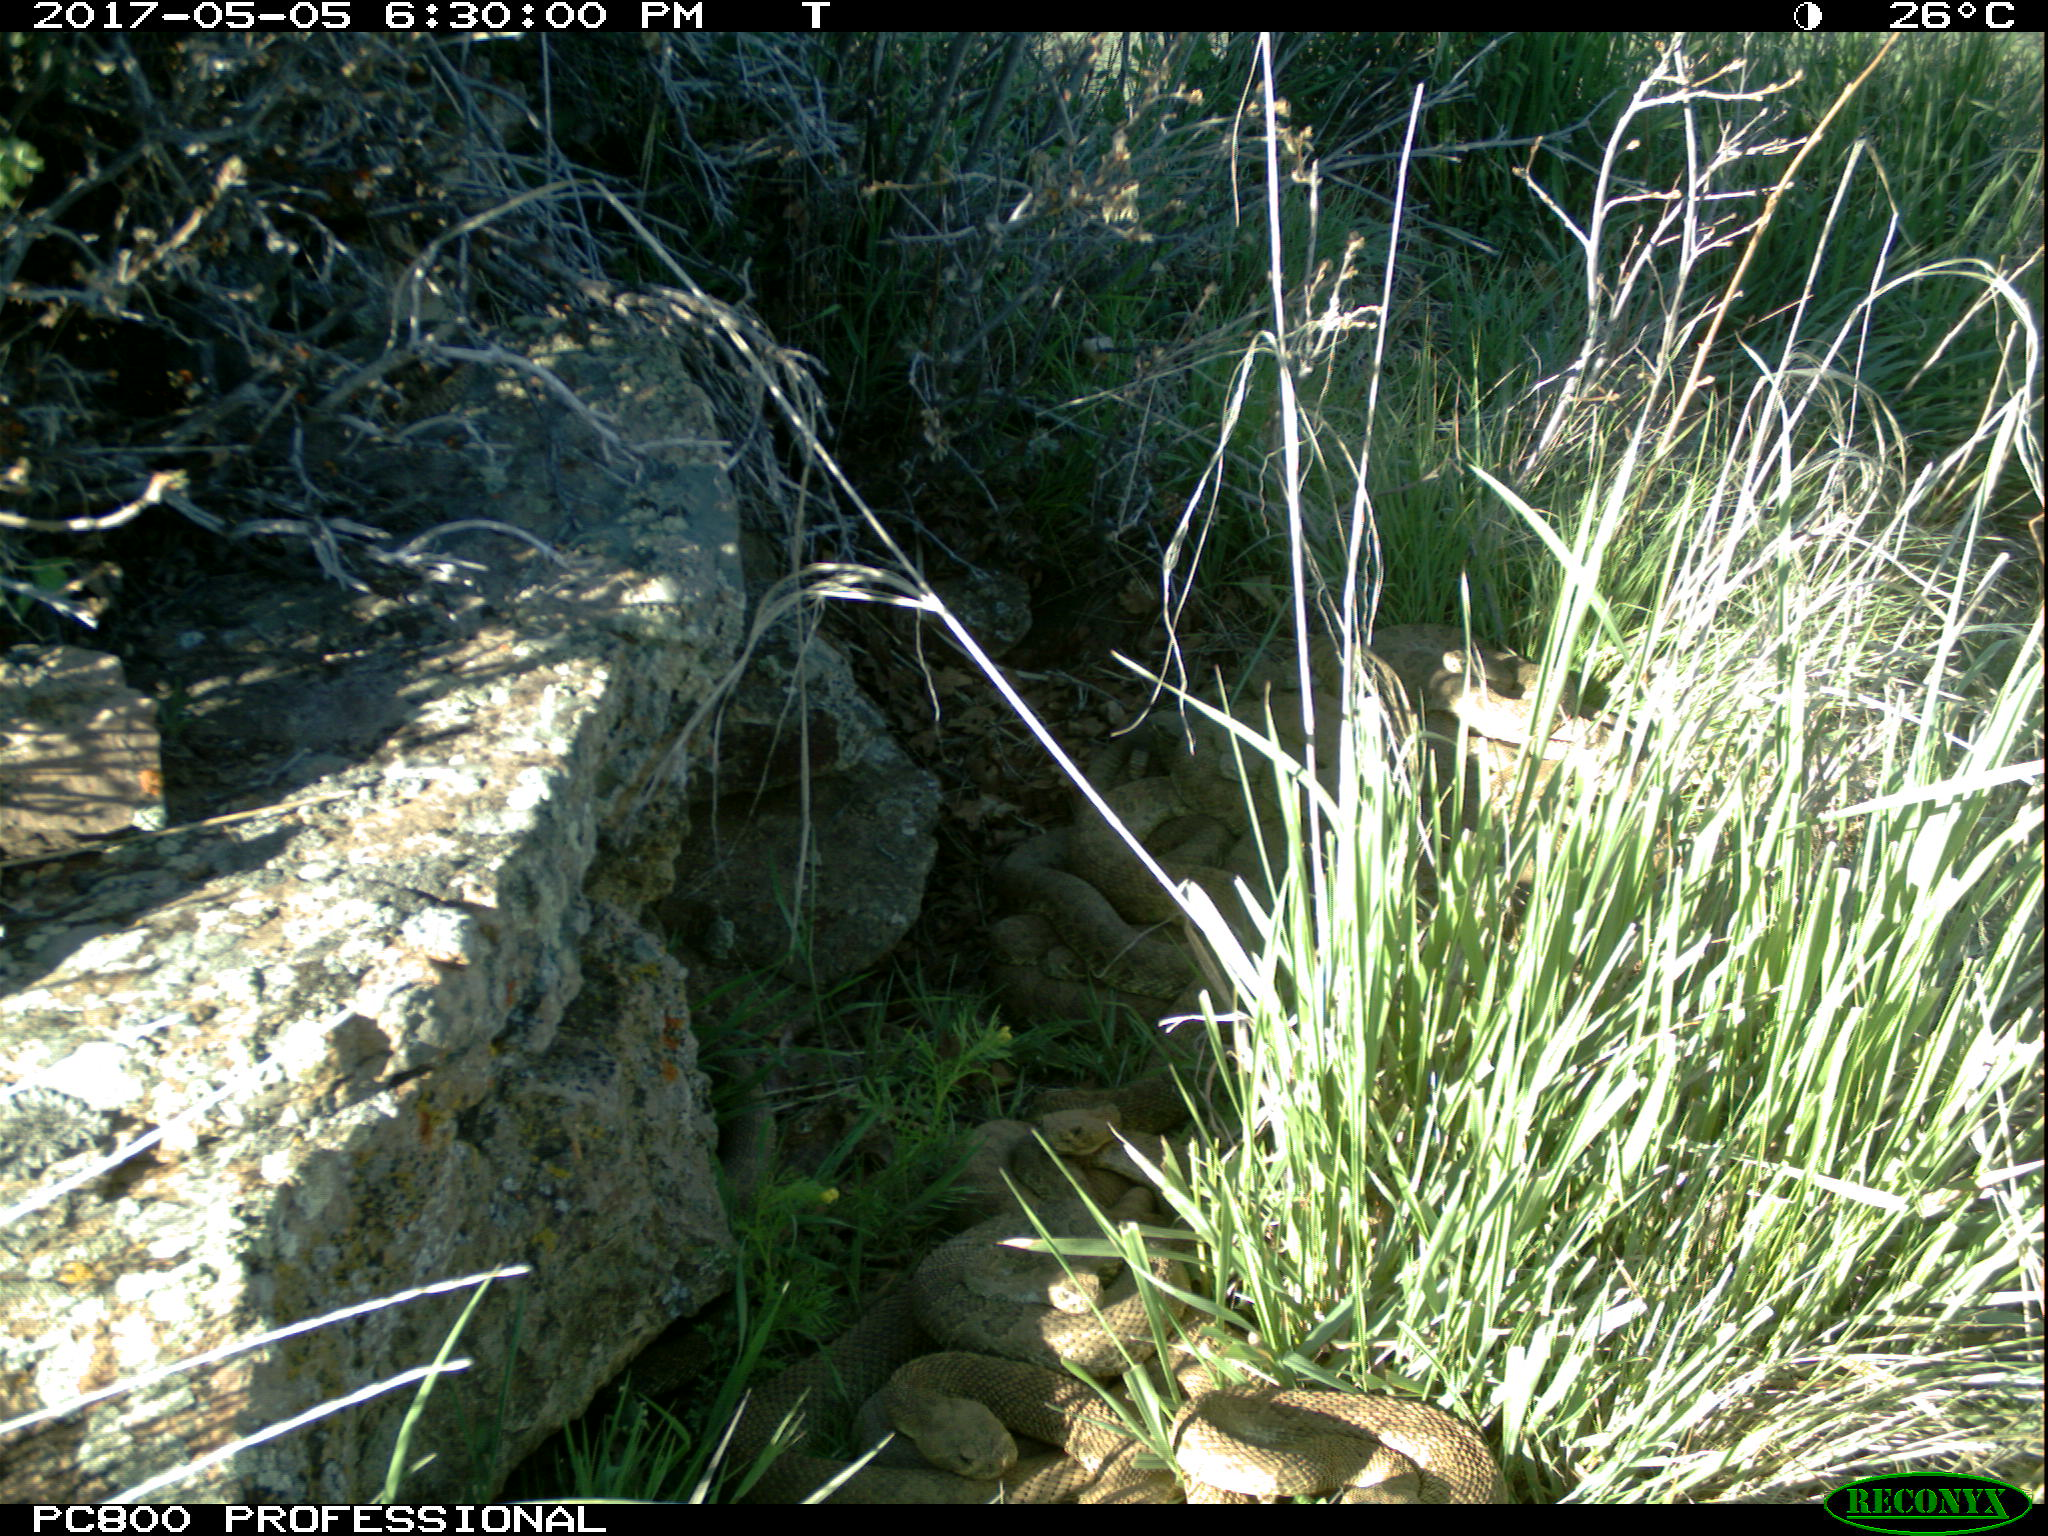snake: (748, 1275, 1164, 1505), (984, 797, 1256, 1058), (1109, 642, 1438, 799), (937, 1105, 1206, 1279), (1168, 1370, 1514, 1501), (1338, 615, 1624, 768)
